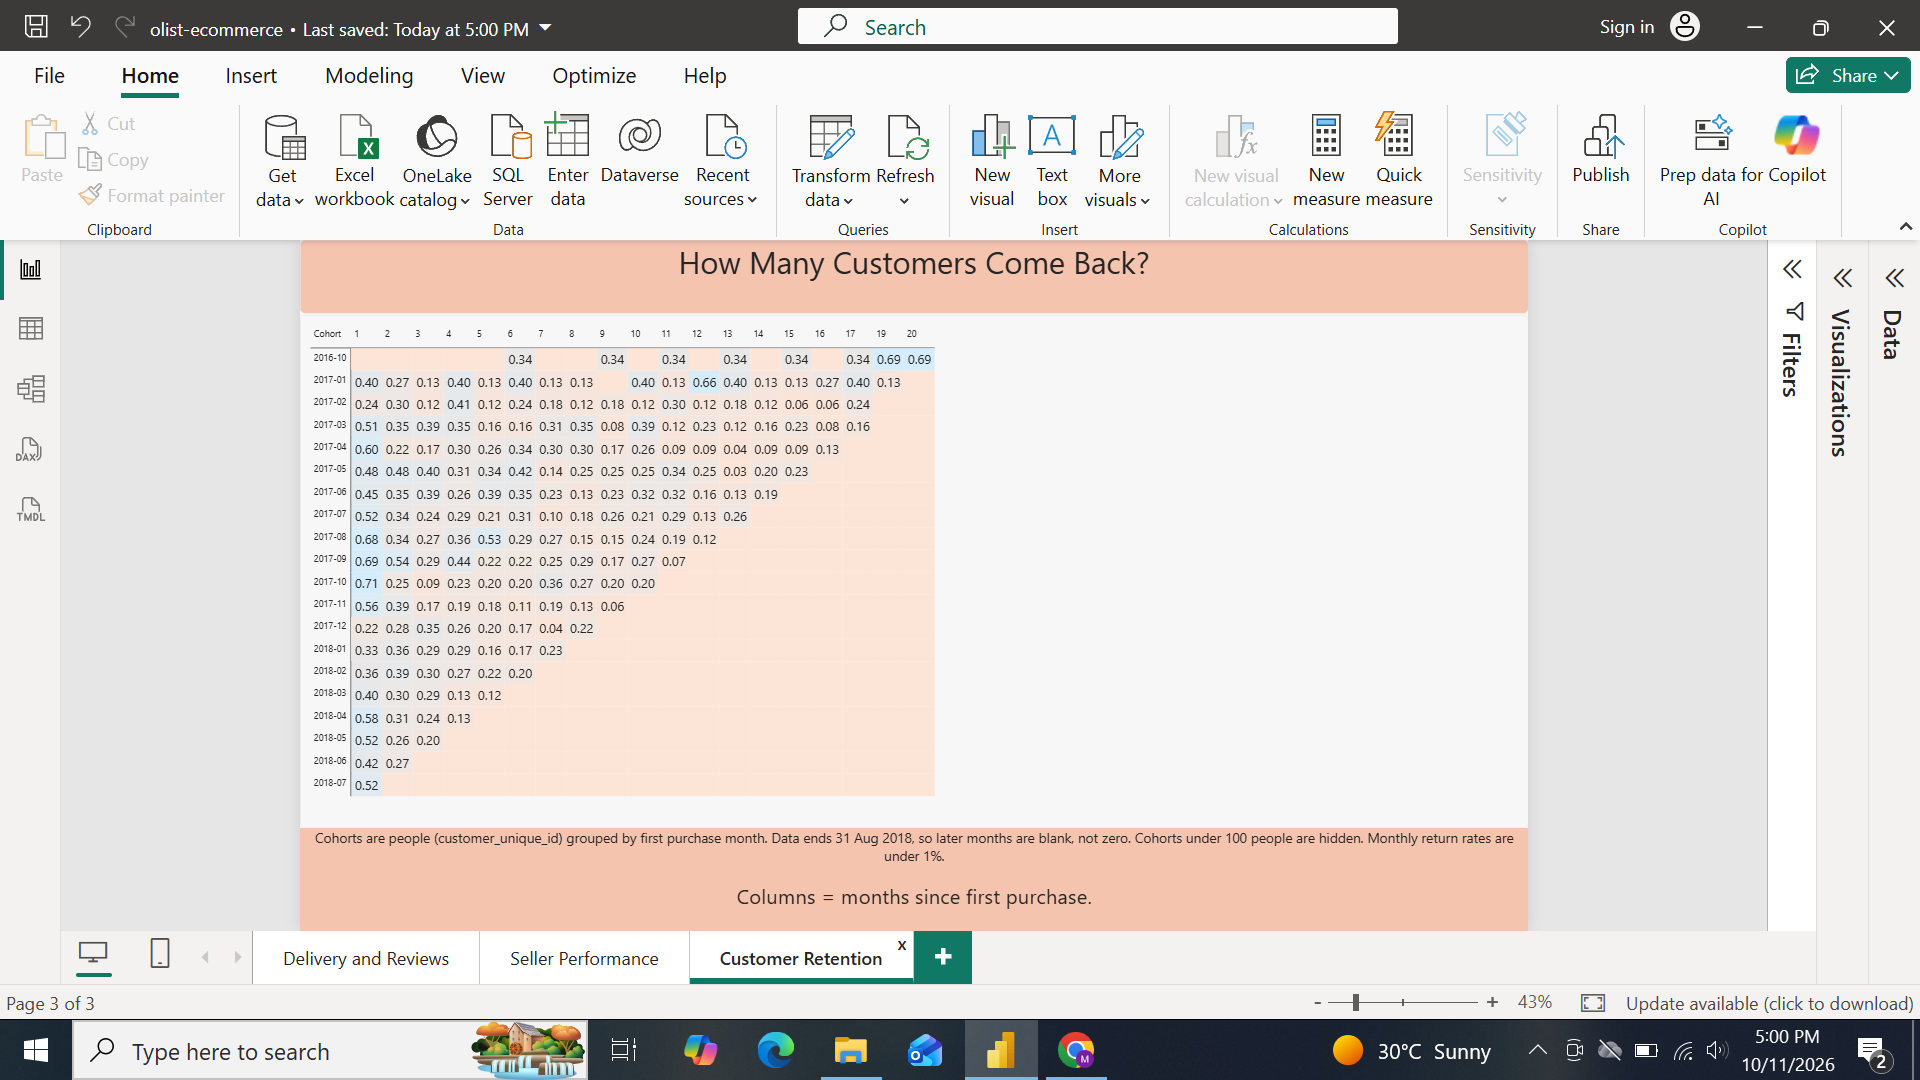

The page's visual inventory and layout, read from the dashboard file:
{"tool":"powerbi","page":{"name":"Customer Retention","canvas":[1920,1080],"ordinal":2},"visuals":[{"type":"textbox","box":[0,0,1920.1,114.9],"z":0},{"type":"pivotTable","fields":{"Columns":["cohort_retention.months_since"],"Rows":["cohort_retention.Cohort"],"Values":["Avg(cohort_retention.retention_pct)"]},"box":[0,117.2,1920.1,801.8],"z":1000},{"type":"textbox","box":[0,919,1920.1,84.4],"z":2000},{"type":"textbox","box":[0,1003.4,1920.1,77.4],"z":2001}]}

Visuals, with their boxes on the page's 1920x1080 design canvas (x1, y1, x2, y2). These are canvas units, not pixel positions in the 1920x1080 screenshot, which may show the page scaled, cropped or inside an application window:
textbox: <box>0,0,1920,115</box>
pivotTable - cohort_retention.months_since x cohort_retention.Cohort: <box>0,117,1920,919</box>
textbox: <box>0,919,1920,1003</box>
textbox: <box>0,1003,1920,1081</box>
